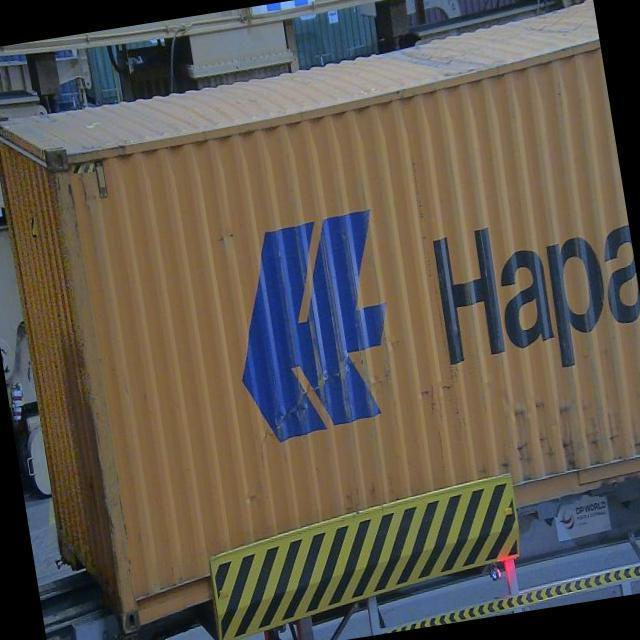dent: (25, 207, 45, 244)
